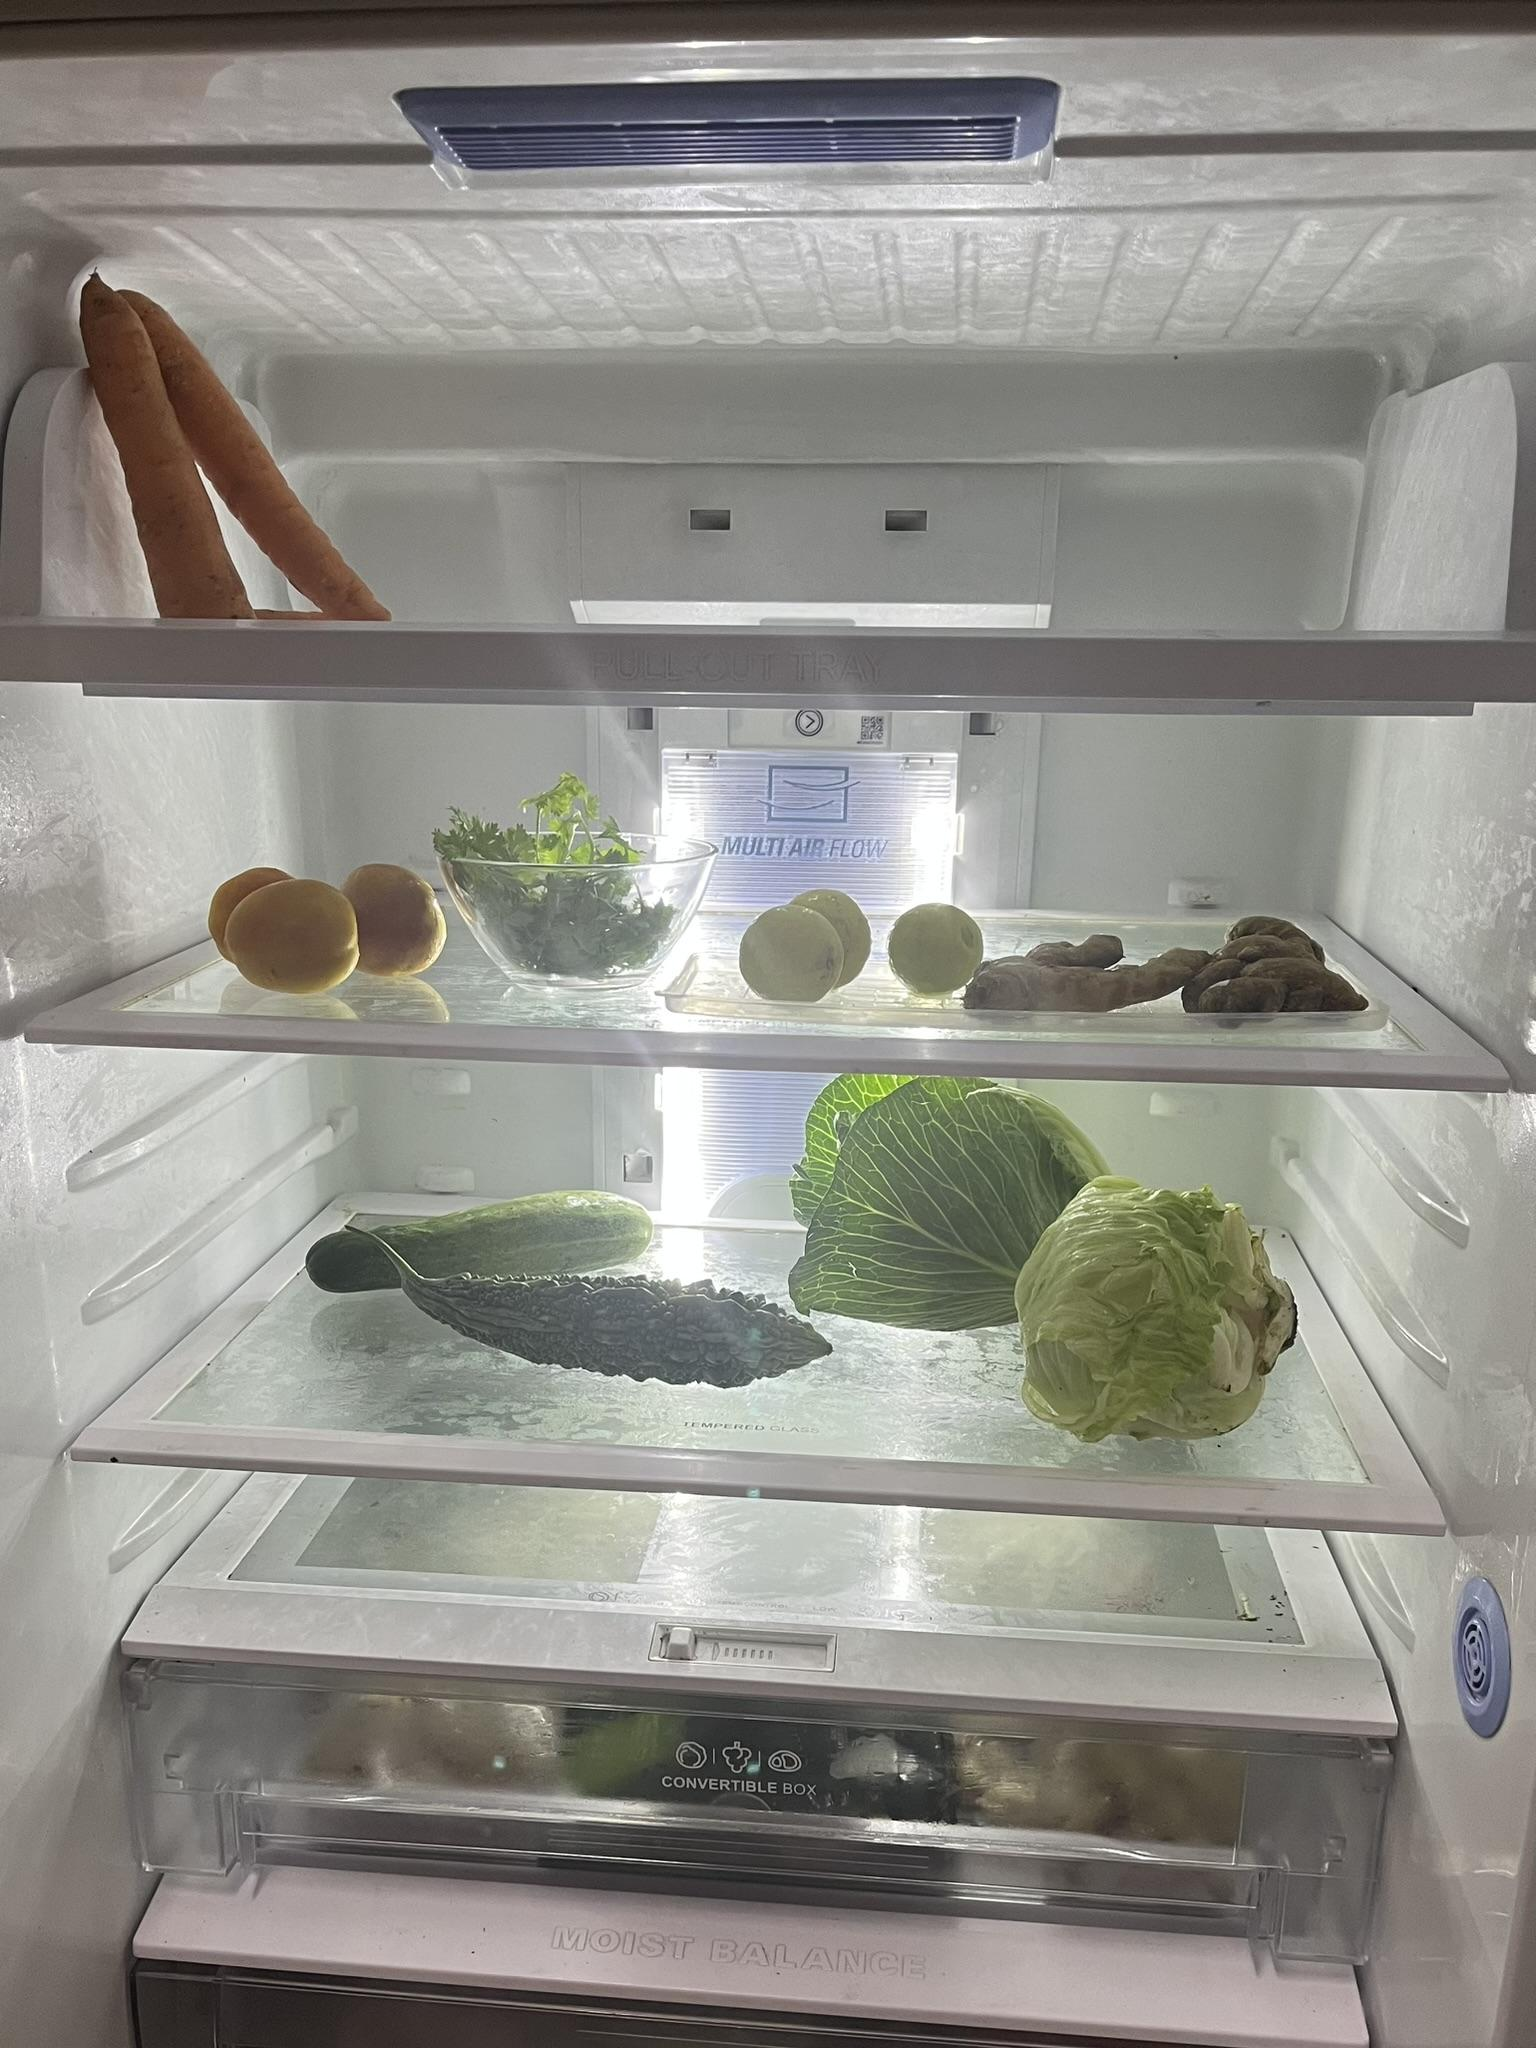bitter gaurd: (360, 1259, 837, 1384)
cabbage: (794, 1077, 1107, 1340)
carrots: (73, 253, 400, 627)
coriander: (440, 774, 663, 977)
cucumber: (276, 1187, 691, 1263)
ginger: (960, 916, 1367, 1021)
lemon: (737, 877, 873, 1009), (891, 900, 994, 1003)
lettuce: (1013, 1166, 1304, 1447)
tomato: (197, 860, 463, 984)
